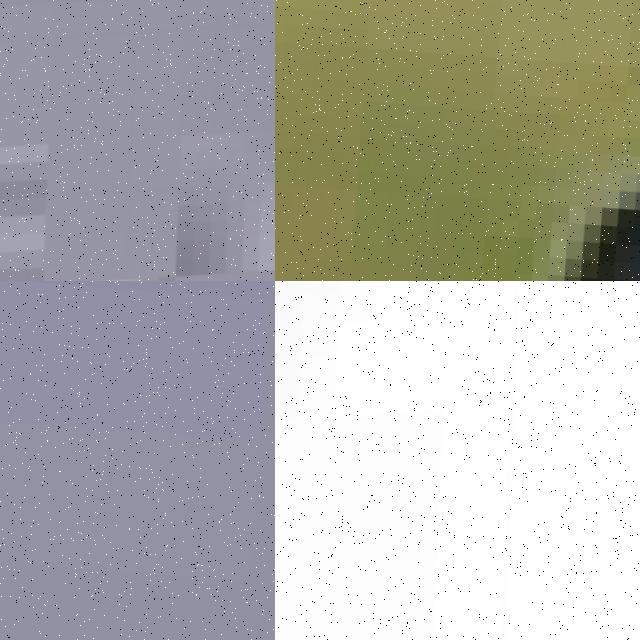0: (0, 0, 275, 281)
drone: (275, 281, 640, 640)
